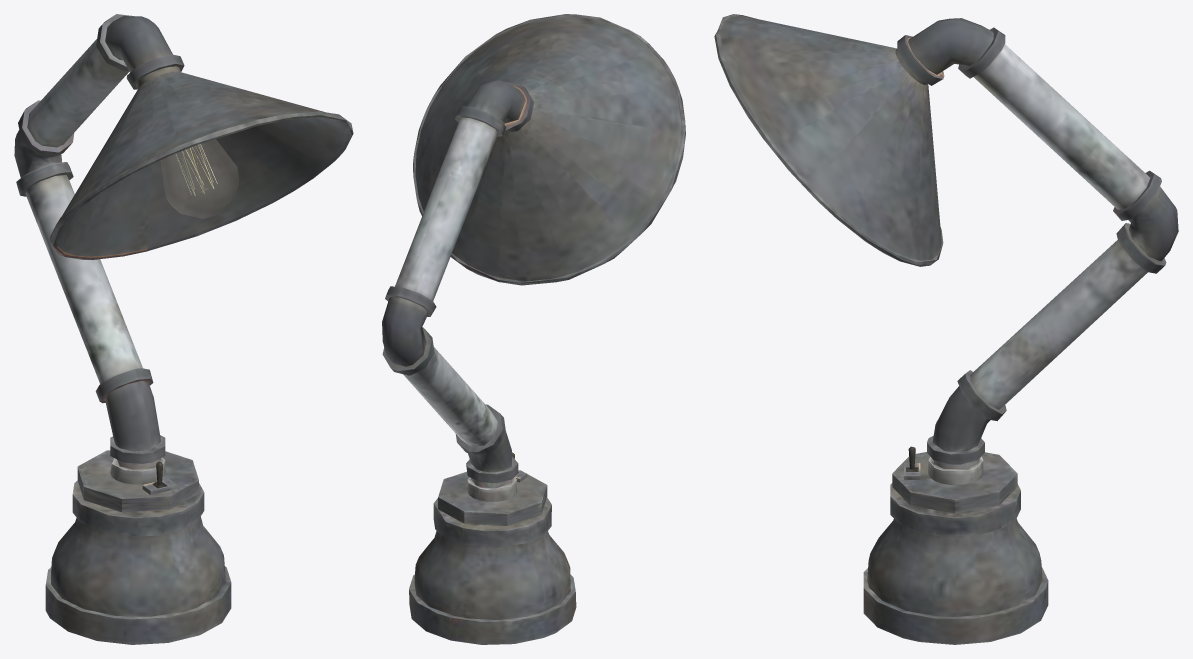
File: floor_lamp.glb
3 renders of one model, left to right at view 1: azimuth 30°, elevation 25°; view 2: azimuth 150°, elevation 25°; view 3: azimuth 270°, elevation 25°, orthographic. The views are drawn at different scales.
Parts seen in each view (by area): view 1: industrial_pipe_lamp, industrial_pipe_lamp_bulb; view 2: industrial_pipe_lamp; view 3: industrial_pipe_lamp.
Boxes of the visible parts, box(x1,y1,x2,y2) form: industrial_pipe_lamp: box(14, 14, 353, 644); industrial_pipe_lamp_bulb: box(161, 139, 238, 218); industrial_pipe_lamp: box(382, 14, 685, 644); industrial_pipe_lamp: box(714, 14, 1178, 644).
Size of the model in its own units: 0.1826 by 0.3641 by 0.2617.
2 materials, 2 textured.
